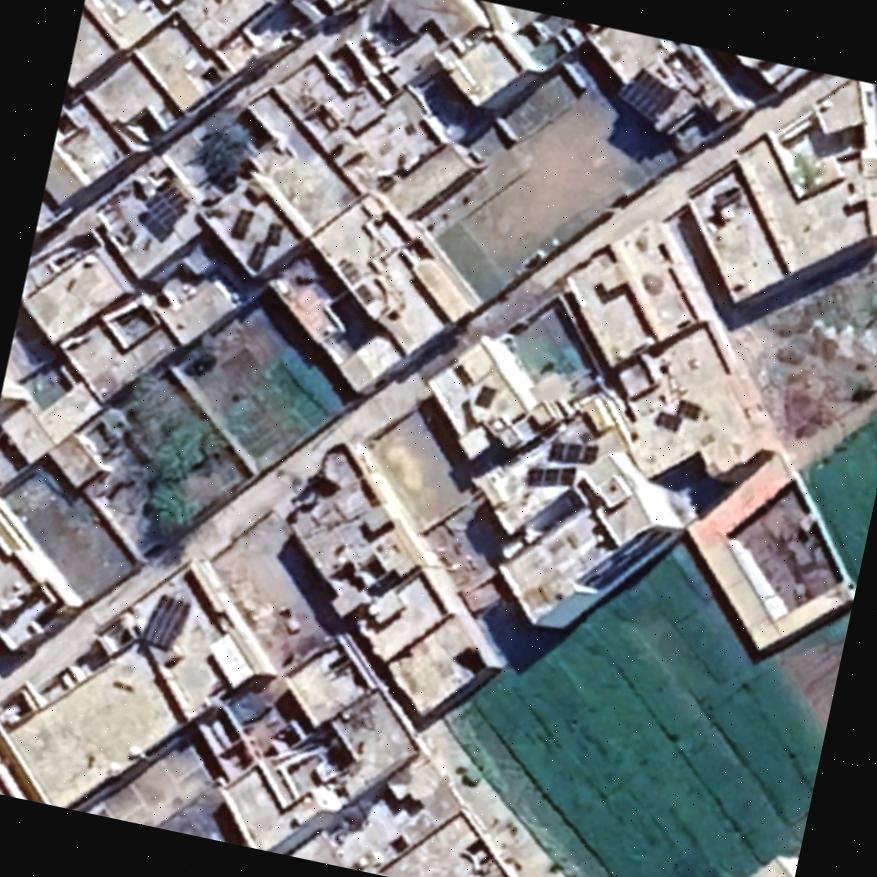Solarpanel: (134, 586, 196, 658), (612, 63, 682, 125), (138, 178, 192, 236), (522, 457, 577, 498), (544, 433, 600, 470), (227, 204, 256, 242)
